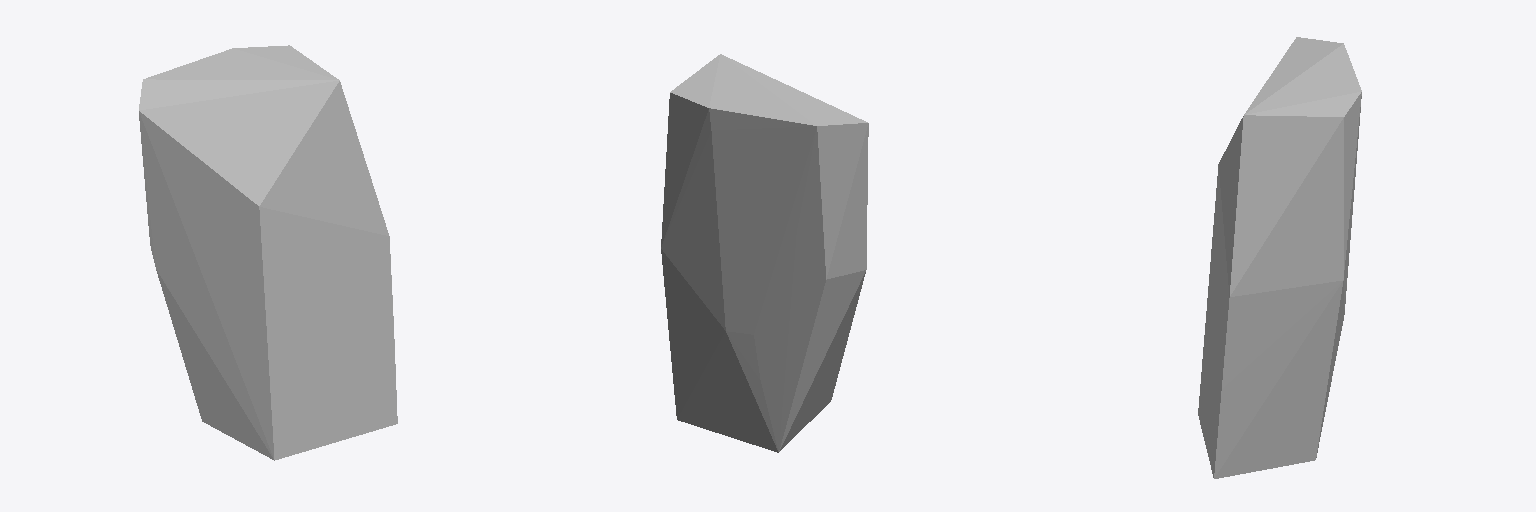
Rendered from trash_bin_collision_11.obj.
3 views of the same model, side by side, from view 1: azimuth 30°, elevation 25°; view 2: azimuth 150°, elevation 25°; view 3: azimuth 270°, elevation 25° (orthographic).
Size of the model in its own units: 0.0356 by 0.0542 by 0.0232.